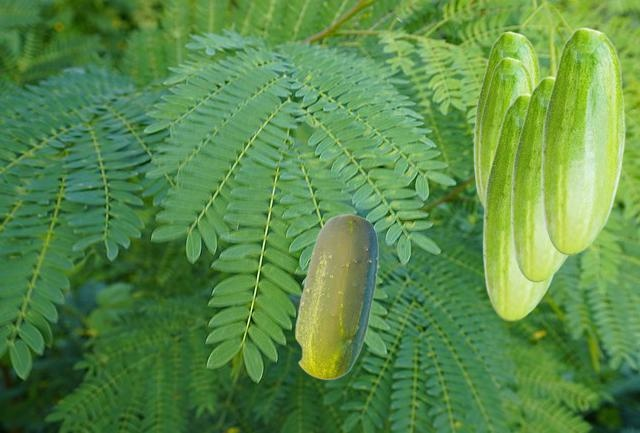cucumber: (540, 27, 624, 254), (482, 93, 554, 320), (294, 213, 377, 379), (510, 76, 569, 281), (473, 31, 540, 208), (478, 57, 533, 199)
